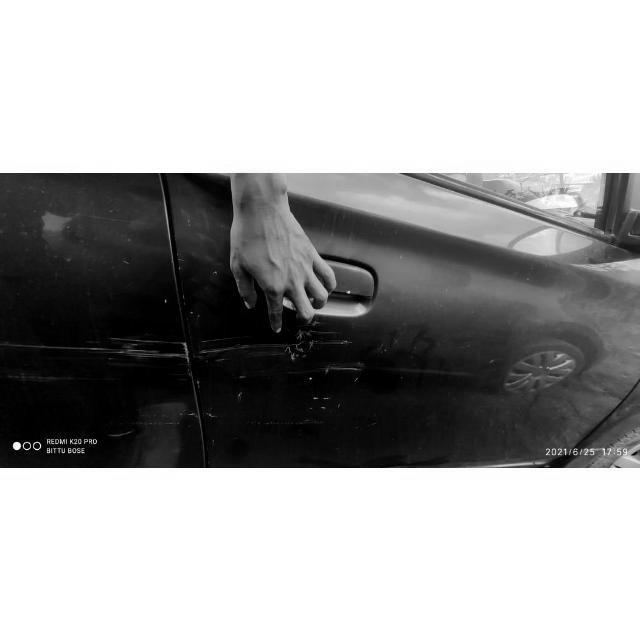doorouter-dent: (199, 173, 584, 461), (0, 172, 200, 460)
